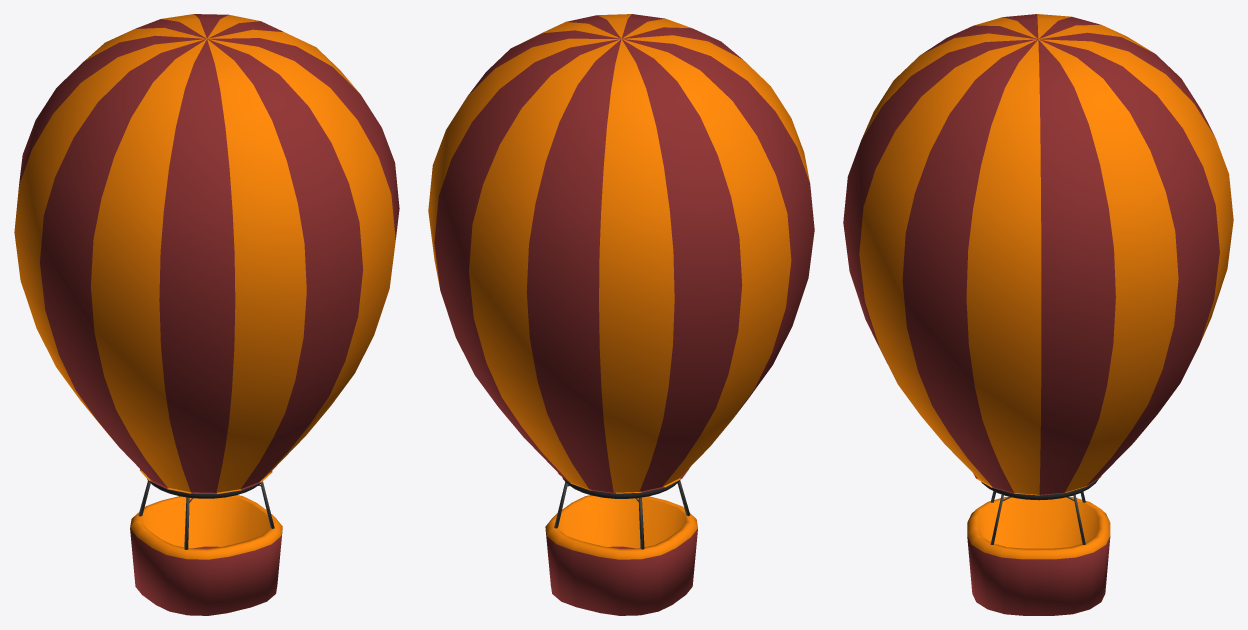
The model's file is balloon bigger.fbx.
3 renders of one model, left to right at view 1: azimuth 30°, elevation 25°; view 2: azimuth 150°, elevation 25°; view 3: azimuth 270°, elevation 25°, orthographic.
Visible parts, largest first — view 1: Ballon_top, Ballon_base; view 2: Ballon_top, Ballon_base; view 3: Ballon_top, Ballon_base.
Part boxes in pixels (x1=…): Ballon_top: x1=14, y1=14, x2=399, y2=492; Ballon_base: x1=130, y1=469, x2=282, y2=615; Ballon_top: x1=428, y1=14, x2=814, y2=492; Ballon_base: x1=545, y1=468, x2=697, y2=615; Ballon_top: x1=843, y1=14, x2=1233, y2=494; Ballon_base: x1=967, y1=474, x2=1110, y2=615.
Bounding box in the file's own units: 591 × 916 × 591.
